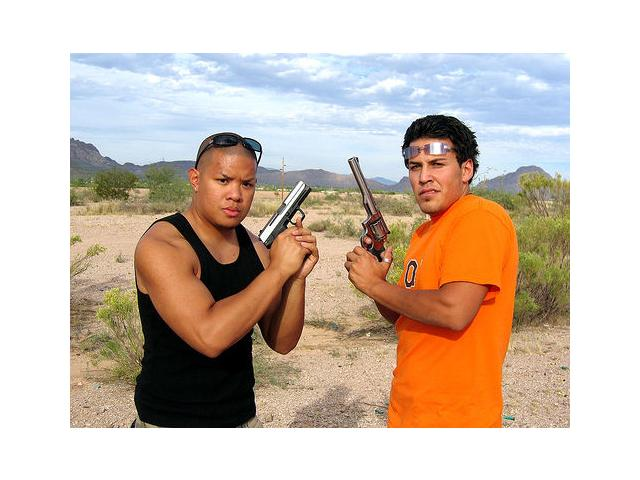pistol: (336, 154, 394, 282), (262, 177, 318, 275)
